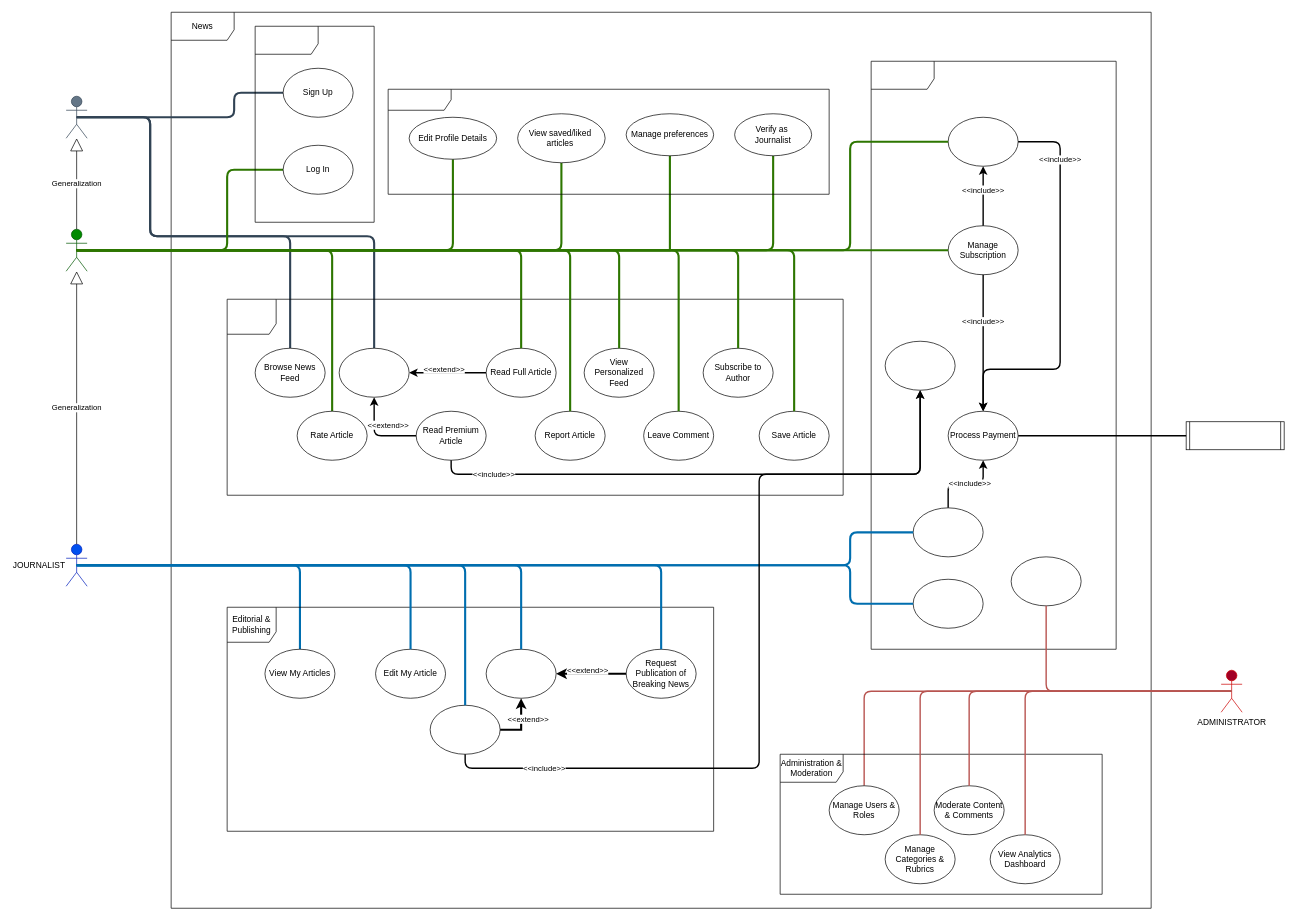
This 1296x921 diagram has some shape labels left out. Here are the shapes that lost their labels. From the top down, the box of each, then its label:
(65, 96, 87, 138): GUEST
(254, 26, 374, 222): Authentication
(387, 89, 829, 194): Profile
(947, 117, 1018, 166): Disable Ads
(65, 229, 87, 271): READER
(338, 348, 409, 397): Read Preview Fragment
(884, 341, 955, 390): Verify Premium
(870, 61, 1116, 649): Subscriptions & Monetization
(226, 299, 843, 495): News Feed & Content
(1185, 421, 1284, 450): Payment Gateway
(912, 507, 983, 557): Request Payout
(1010, 556, 1081, 606): Audit Transactions
(912, 579, 983, 628): View Payout & Earnings
(485, 649, 556, 698): Create Article
(429, 705, 500, 754): Create Premium Article
